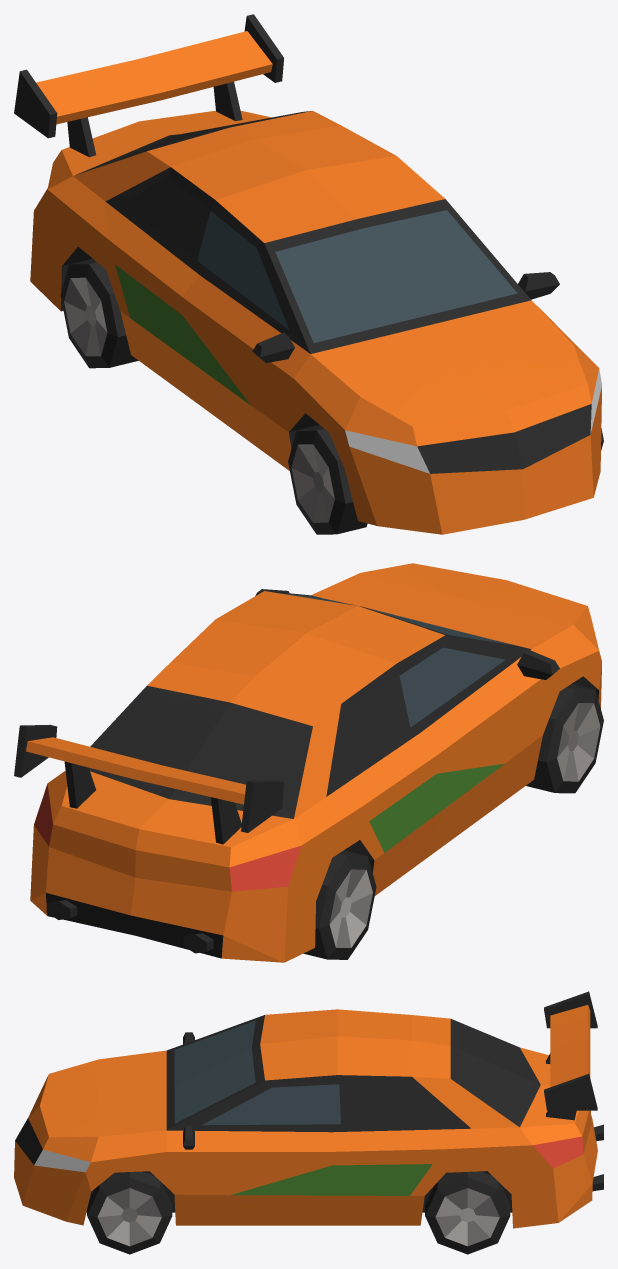
The model's file is vehicles_car-passenger-race.fbx.
The picture shows the model from 3 angles, top to bottom: view 1: azimuth 30°, elevation 25°; view 2: azimuth 150°, elevation 25°; view 3: azimuth 270°, elevation 25°; orthographic projection. The views are drawn at different scales.
Visible parts, largest first — view 1: car_passenger_race_base, car_passenger_race_wheel_BR, car_passenger_race_wheel_FR; view 2: car_passenger_race_base, car_passenger_race_wheel_FR, car_passenger_race_wheel_BR; view 3: car_passenger_race_base, car_passenger_race_wheel_BL, car_passenger_race_wheel_FL.
Boxes of the visible parts, x1,y1,x2,y2 form: car_passenger_race_base: (14, 14, 601, 534); car_passenger_race_wheel_BR: (60, 258, 138, 368); car_passenger_race_wheel_FR: (288, 425, 367, 534); car_passenger_race_base: (14, 563, 601, 962); car_passenger_race_wheel_FR: (526, 684, 603, 793); car_passenger_race_wheel_BR: (303, 850, 376, 959); car_passenger_race_base: (14, 991, 603, 1228); car_passenger_race_wheel_BL: (425, 1171, 510, 1254); car_passenger_race_wheel_FL: (87, 1171, 172, 1254).
Size of the model in its own units: 87.18 by 65.06 by 200.
